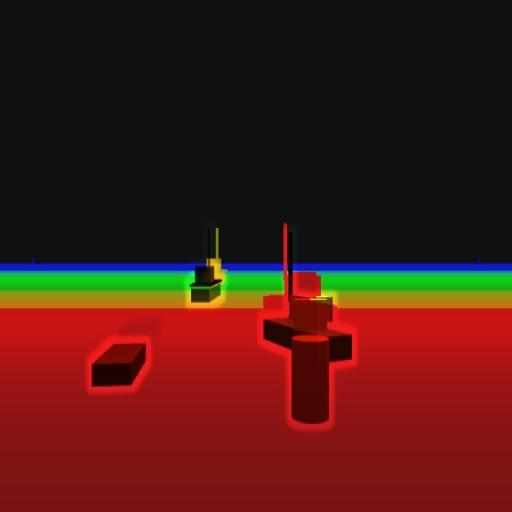buoy: (293, 304, 329, 426)
debris_container: (92, 341, 152, 388)
vessel: (189, 230, 223, 304)
